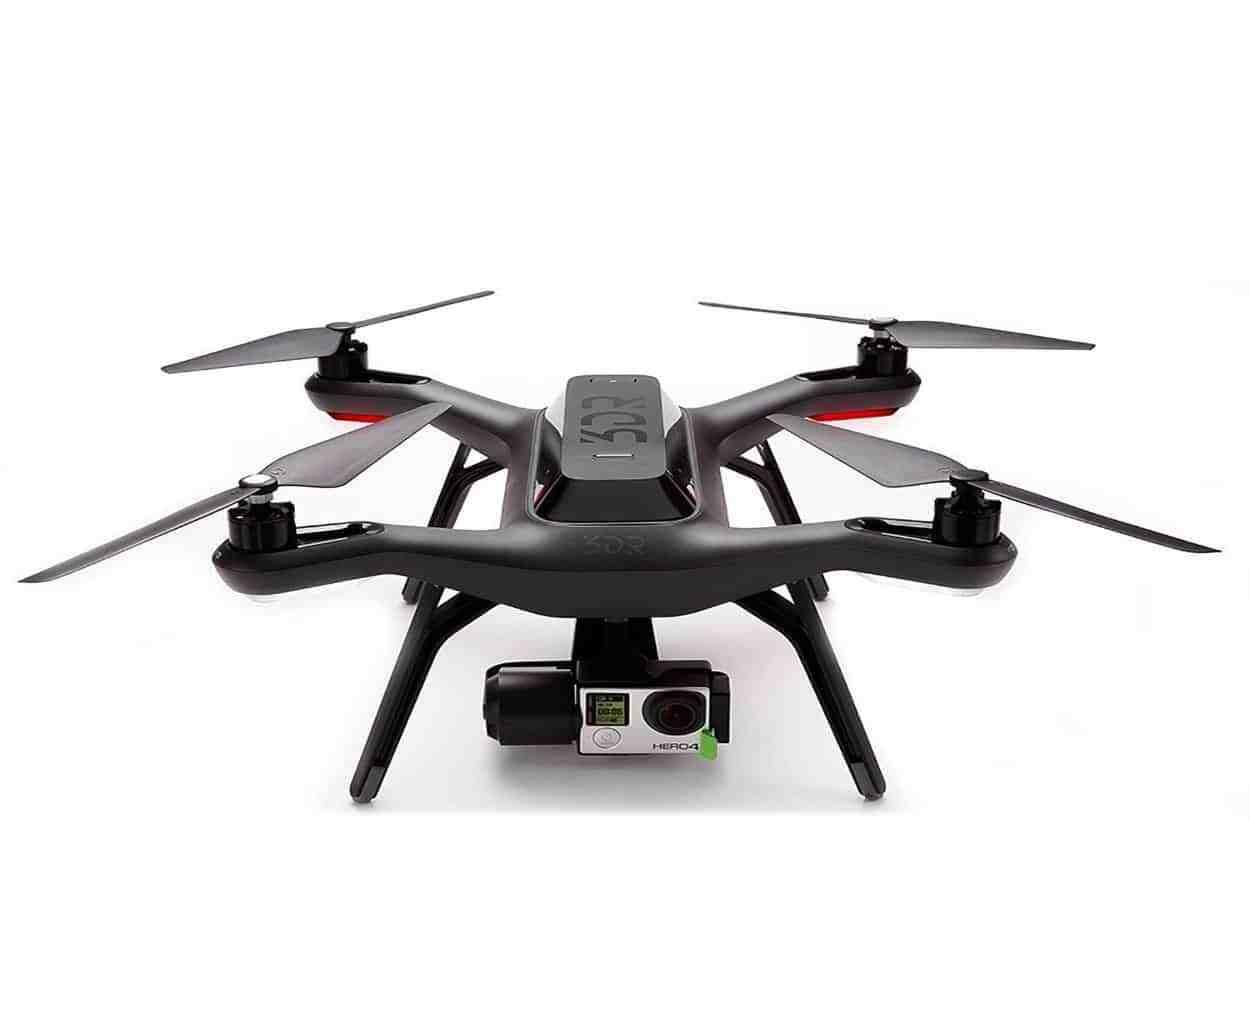drone: (49, 262, 1241, 686)
